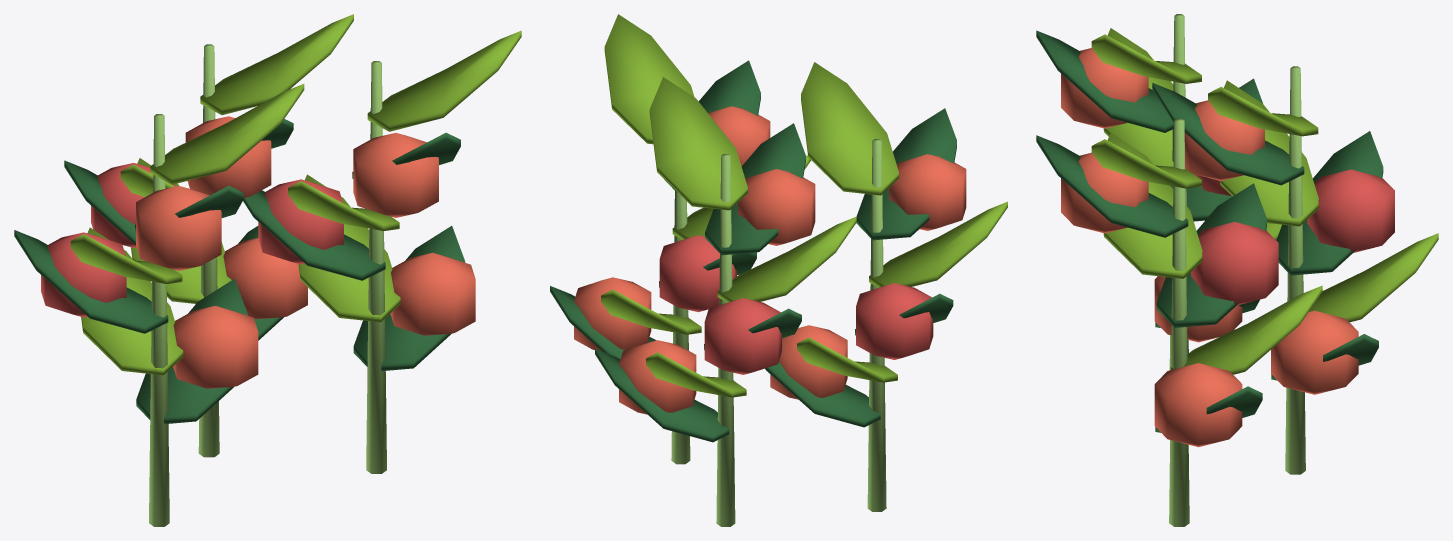
Rendered from stage_3_harvest.glb.
3 views of the same model, side by side, from view 1: azimuth 30°, elevation 25°; view 2: azimuth 150°, elevation 25°; view 3: azimuth 270°, elevation 25° (orthographic). The views are drawn at different scales.
Visible parts, largest first — view 1: 果实, 果实.003, 果实.002, 果实.005, 复叶.032, 复叶.026, 复叶.038, 主茎.004, 主茎.003, 果实.006, 复叶.023, 复叶.022 (+16 smaller); view 2: 复叶.038, 复叶.026, 复叶.032, 果实.007, 果实.001, 果实.008, 果实.002, 复叶.036, 复叶.024, 复叶.025, 复叶.037, 果实.004 (+18 smaller); view 3: 果实.003, 果实.004, 果实.007, 果实.006, 主茎.004, 复叶.028, 主茎.005, 复叶.034, 复叶.031, 复叶.030, 复叶.029, 复叶.037 (+15 smaller).
Boxes of the visible parts, <box> form: 果实: <box>173,306,258,388</box>; 果实.003: <box>390,252,475,335</box>; 果实.002: <box>136,186,221,270</box>; 果实.005: <box>353,133,438,217</box>; 复叶.032: <box>367,30,521,131</box>; 复叶.026: <box>150,84,304,184</box>; 复叶.038: <box>200,14,353,115</box>; 主茎.004: <box>366,61,386,473</box>; 主茎.003: <box>149,114,169,526</box>; 果实.006: <box>223,238,307,318</box>; 复叶.023: <box>14,230,168,333</box>; 复叶.022: <box>81,227,183,375</box>; 复叶.038: <box>649,77,747,210</box>; 复叶.026: <box>801,62,898,195</box>; 复叶.032: <box>604,14,694,144</box>; 果实.007: <box>704,298,781,374</box>; 果实.001: <box>856,283,933,359</box>; 果实.008: <box>738,169,815,245</box>; 果实.002: <box>889,154,966,230</box>; 复叶.036: <box>717,216,856,302</box>; 复叶.024: <box>869,201,1007,287</box>; 复叶.025: <box>856,108,956,240</box>; 复叶.037: <box>705,123,805,255</box>; 果实.004: <box>659,235,736,312</box>; 果实.003: <box>1154,363,1242,447</box>; 果实.004: <box>1191,222,1278,305</box>; 果实.007: <box>1307,169,1394,252</box>; 果实.006: <box>1271,310,1358,394</box>; 主茎.004: <box>1169,118,1189,526</box>; 复叶.028: <box>1170,285,1322,374</box>; 主茎.005: <box>1285,66,1305,474</box>; 复叶.034: <box>1309,233,1438,322</box>; 复叶.031: <box>1036,135,1188,237</box>; 复叶.030: <box>1103,133,1202,278</box>; 复叶.029: <box>1156,183,1266,327</box>; 复叶.037: <box>1152,83,1304,185</box>.
Bounding box in the file's own units: 0.9666 × 0.9311 × 0.7793.
2 materials, 2 textured.
